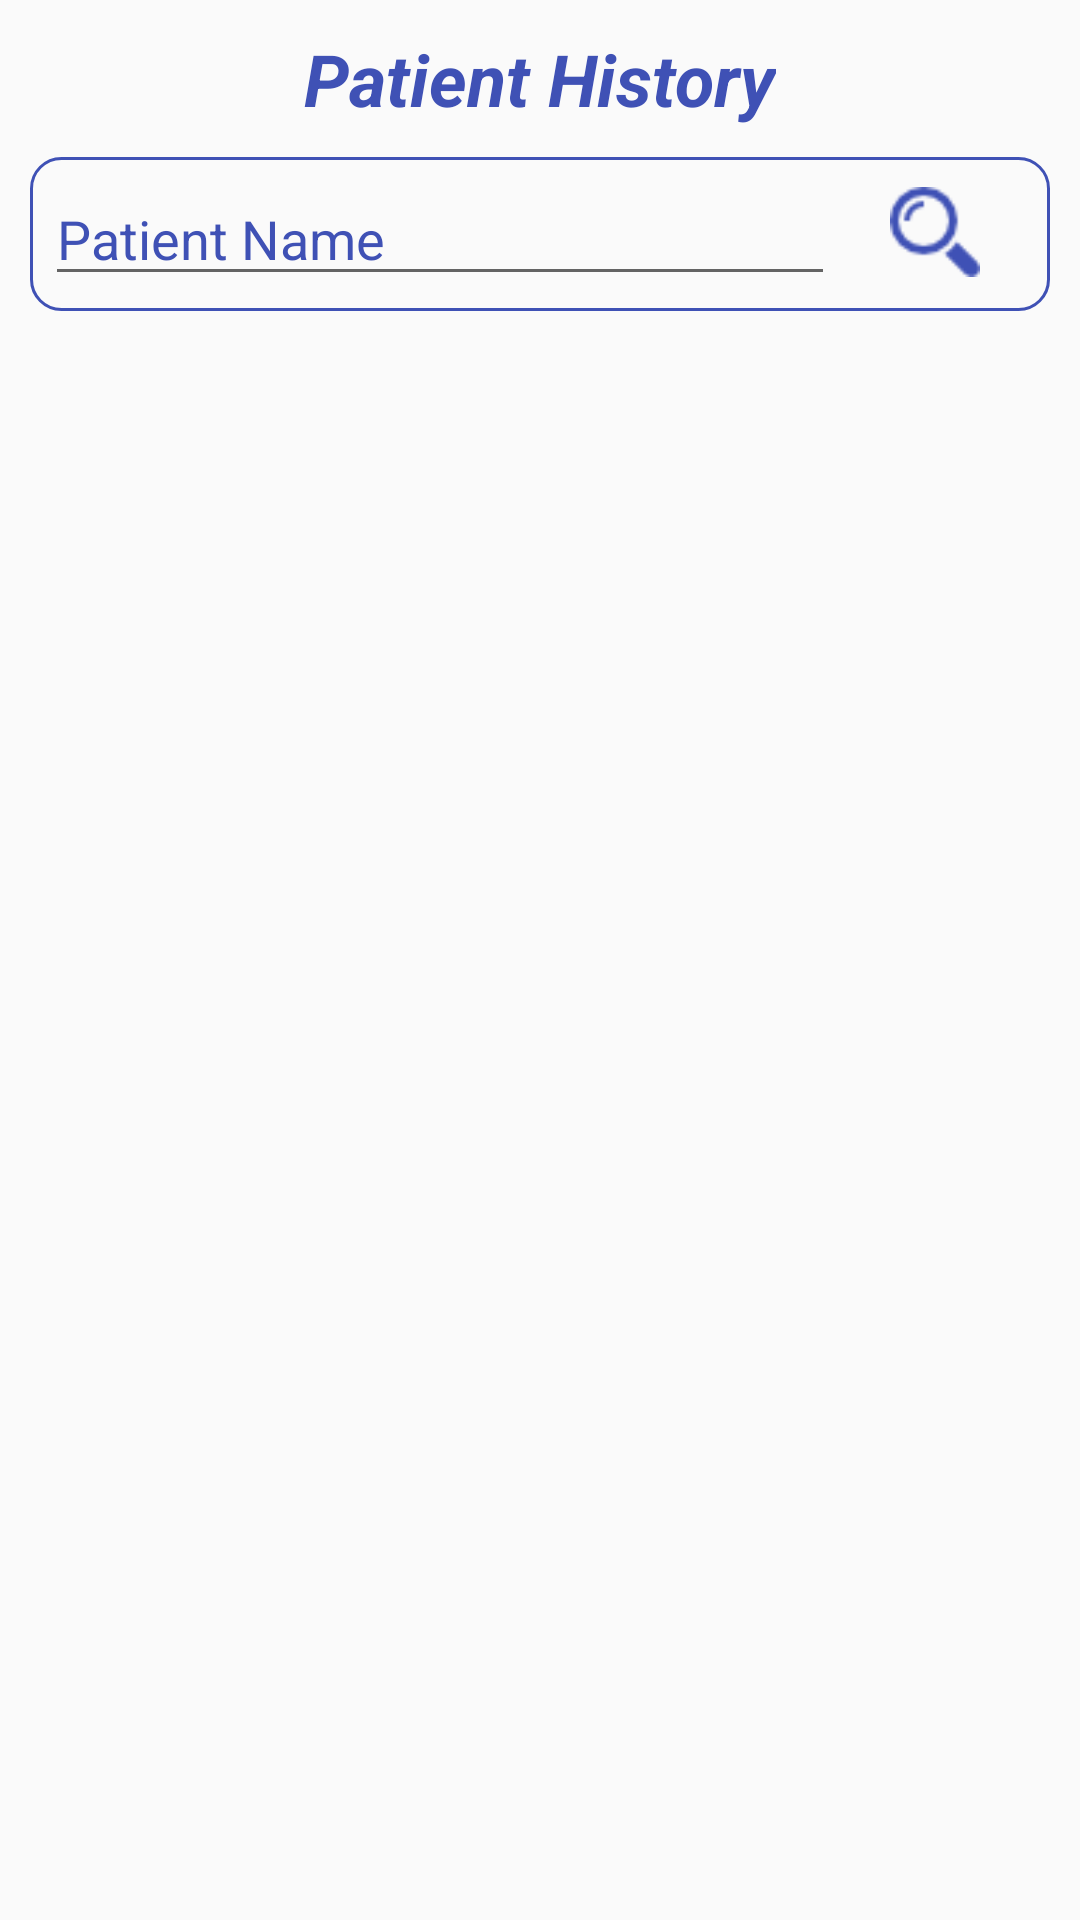

Icons on this 1080 x 1920 Android screen, each with its box as (x1, y1, x2, y2):
search: (890, 187, 980, 277)
